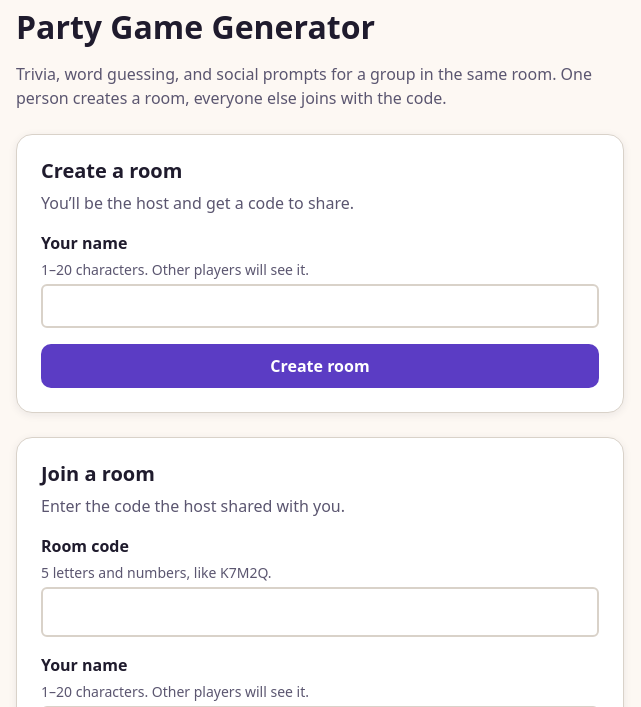
Test: Create room form › shows a server name error next to the name field
The width and height of the screenshot is (641, 707).
Type "Ava" into the field labelled "Your name" below "Create a room". click: (320, 306)
box: top-left (41, 284), bottom-right (599, 328)
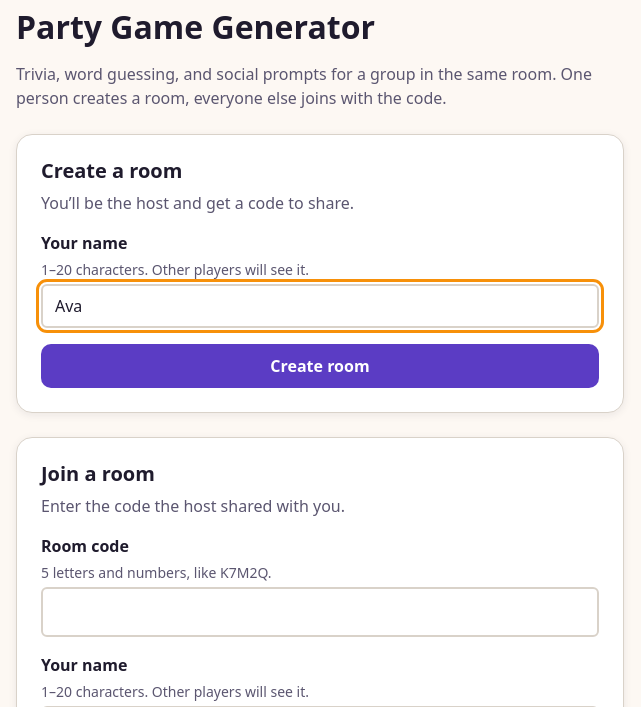
Click the button "Create room". click: (320, 366)
box: top-left (41, 344), bottom-right (599, 388)
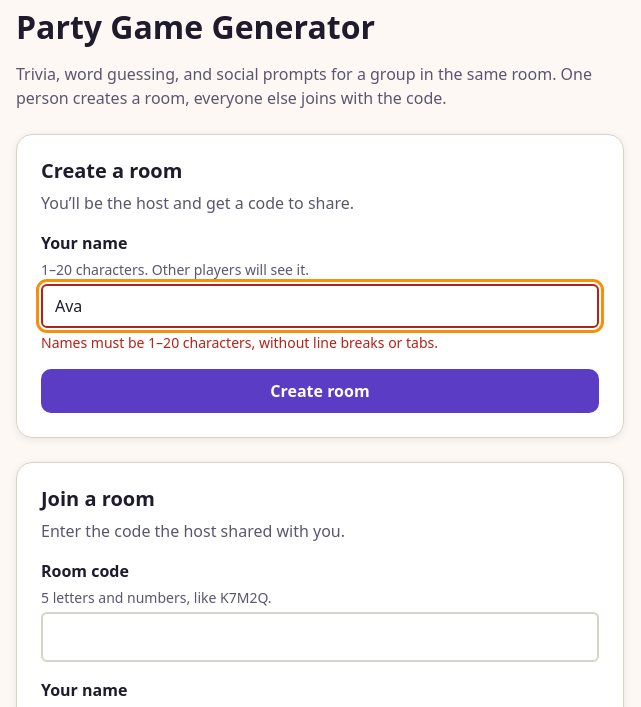
Expected: the message shows "Names must be 1–20 characters", top-left (41, 333), bottom-right (438, 352)
